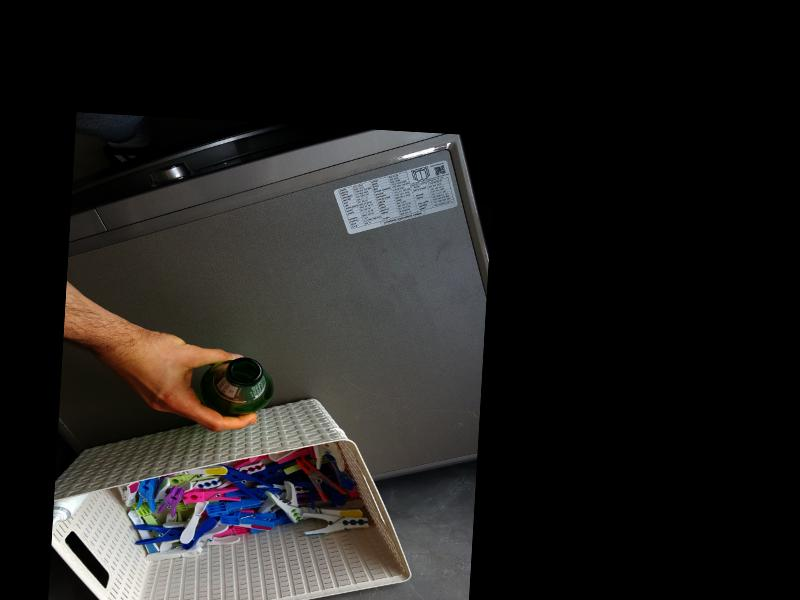Beer: (197, 353, 275, 418)
